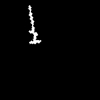double_crochet: (29, 6, 40, 43)
